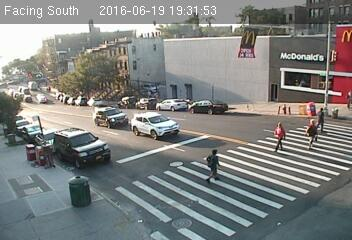neg: (310, 144, 334, 176), (276, 93, 296, 120), (281, 149, 299, 173), (325, 103, 341, 125), (256, 140, 272, 161), (186, 159, 200, 177), (295, 133, 303, 143)
pos: (194, 144, 225, 186), (264, 120, 292, 156), (300, 118, 324, 150), (312, 104, 335, 134)
